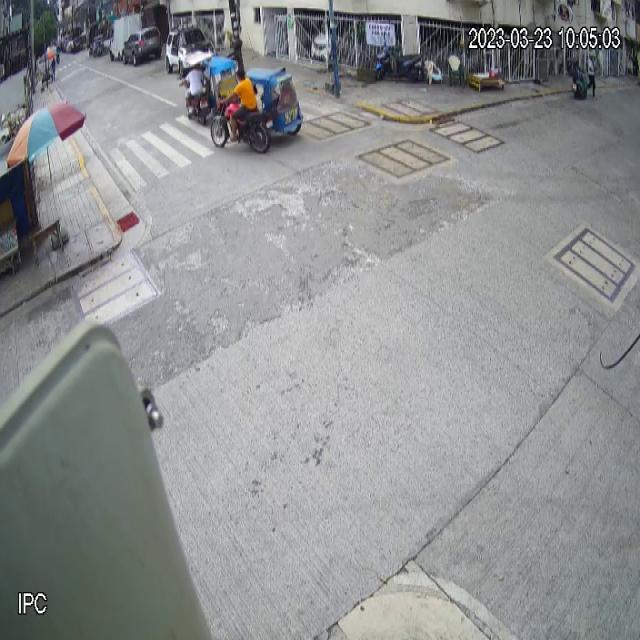Tricycle: (211, 66, 303, 154)
